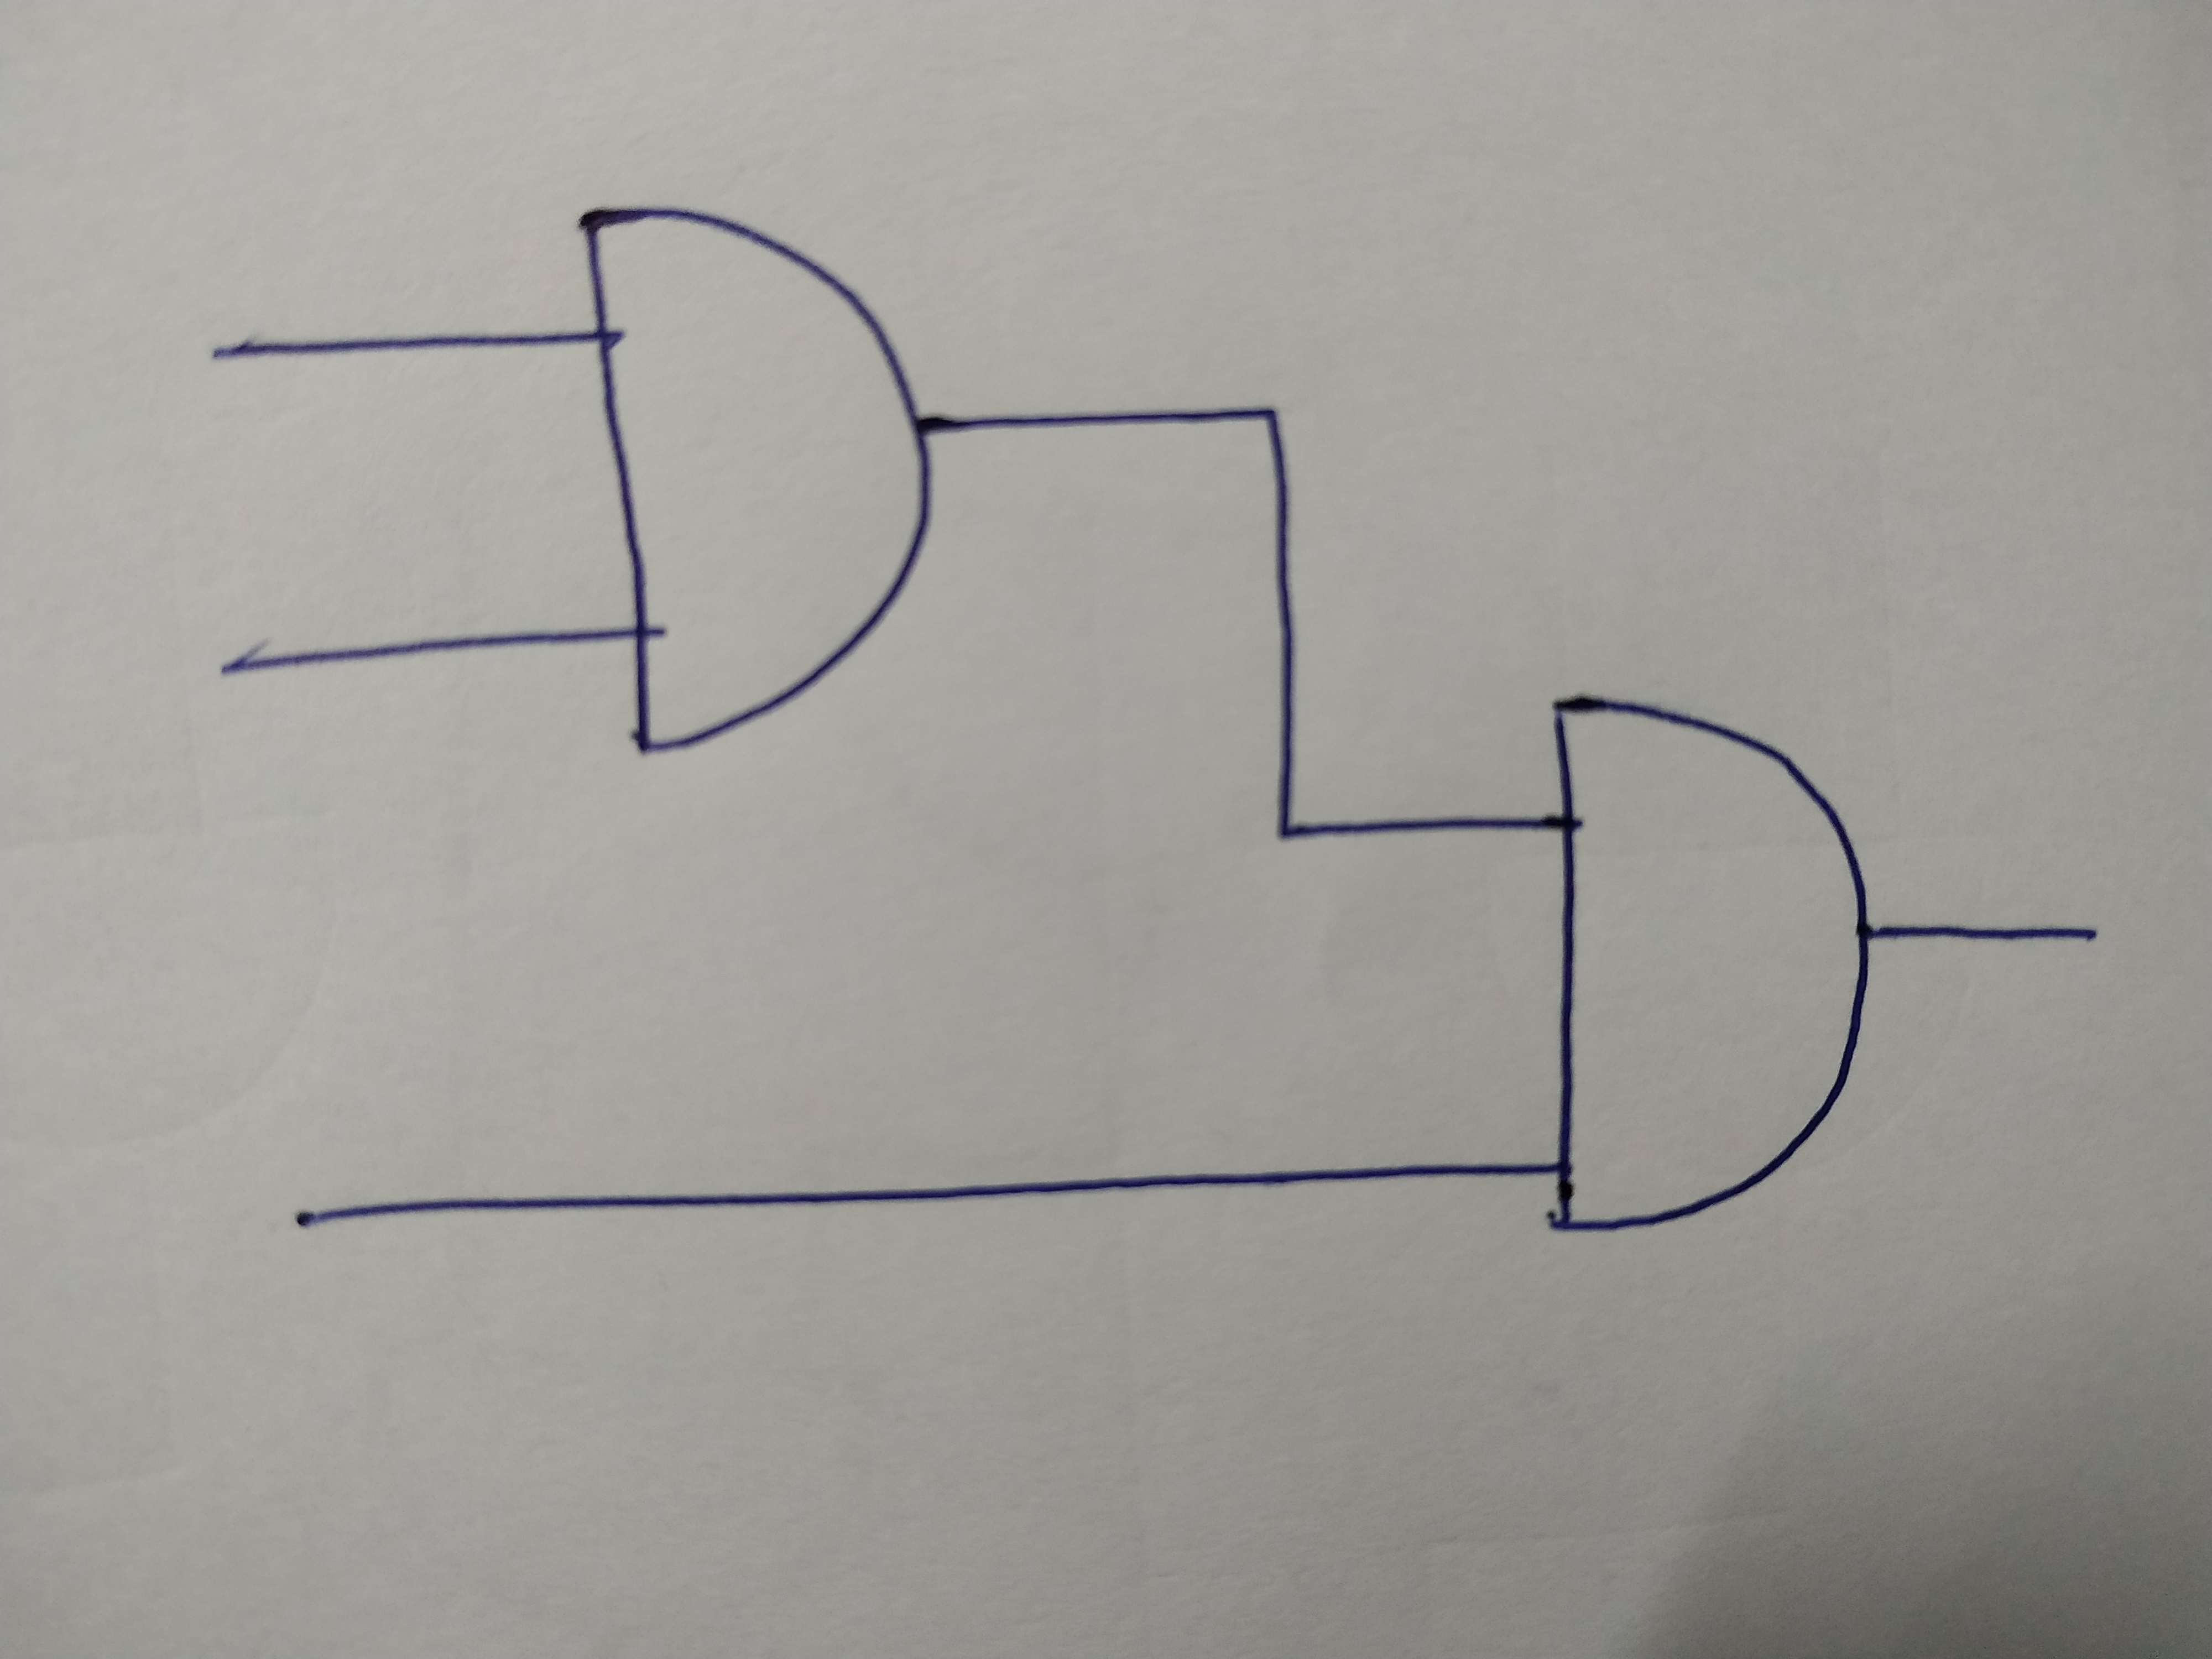and: (582, 197, 927, 753), (1550, 681, 1871, 1243)
